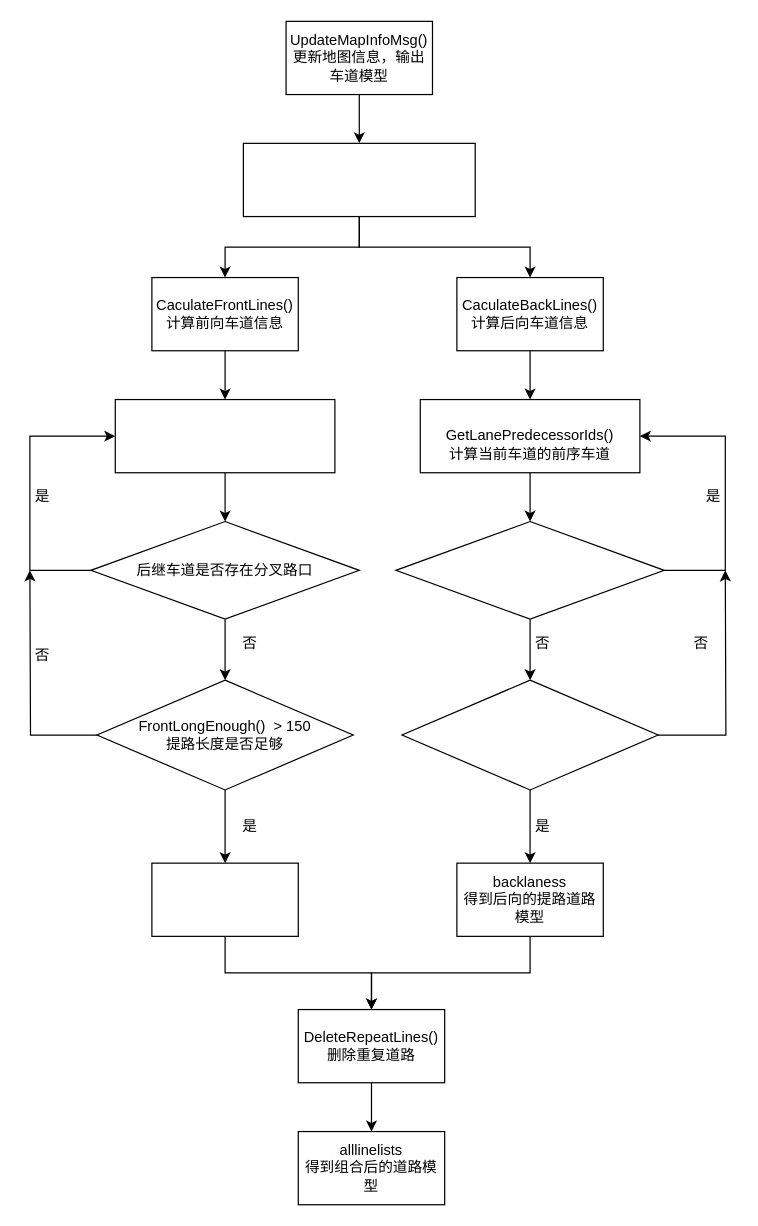
This 758x1226 diagram has some shape labels left out. Here are the shapes that lost their labels. From the top down, the centre of each, then its label:
(x=358, y=179): GetRoadLanes(current_road_id) 根据当前道路id获取道路上的 车道信息
(x=224, y=435): GetSuccessorLanesInxRoad() 计算当前车道的后继车道
(x=529, y=569): 前序车道是否存在分叉路口
(x=529, y=734): BackLongEnough() > 150 提路长度是否足够
(x=224, y=899): frontlaness 得到前向的提路道路模型
